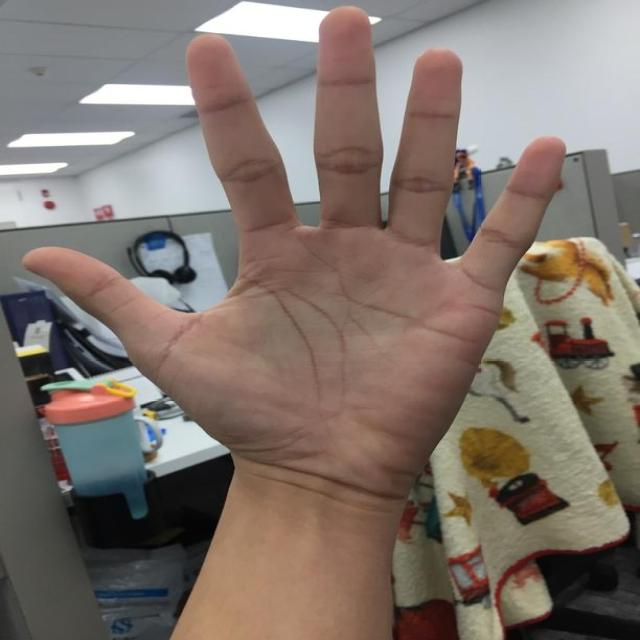hand: (25, 7, 567, 500)
